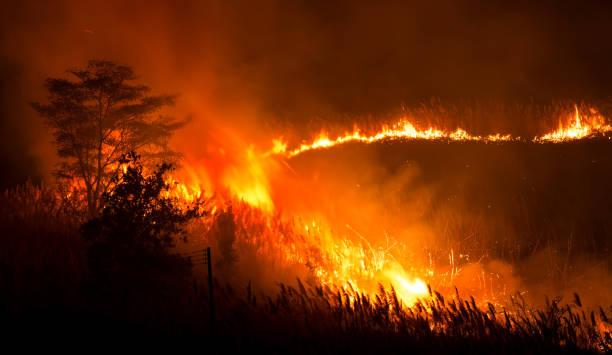Fire: (205, 161, 283, 208), (367, 255, 434, 303), (359, 115, 429, 135), (545, 115, 566, 150)
